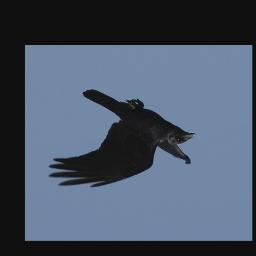Crow: (48, 89, 197, 189)
